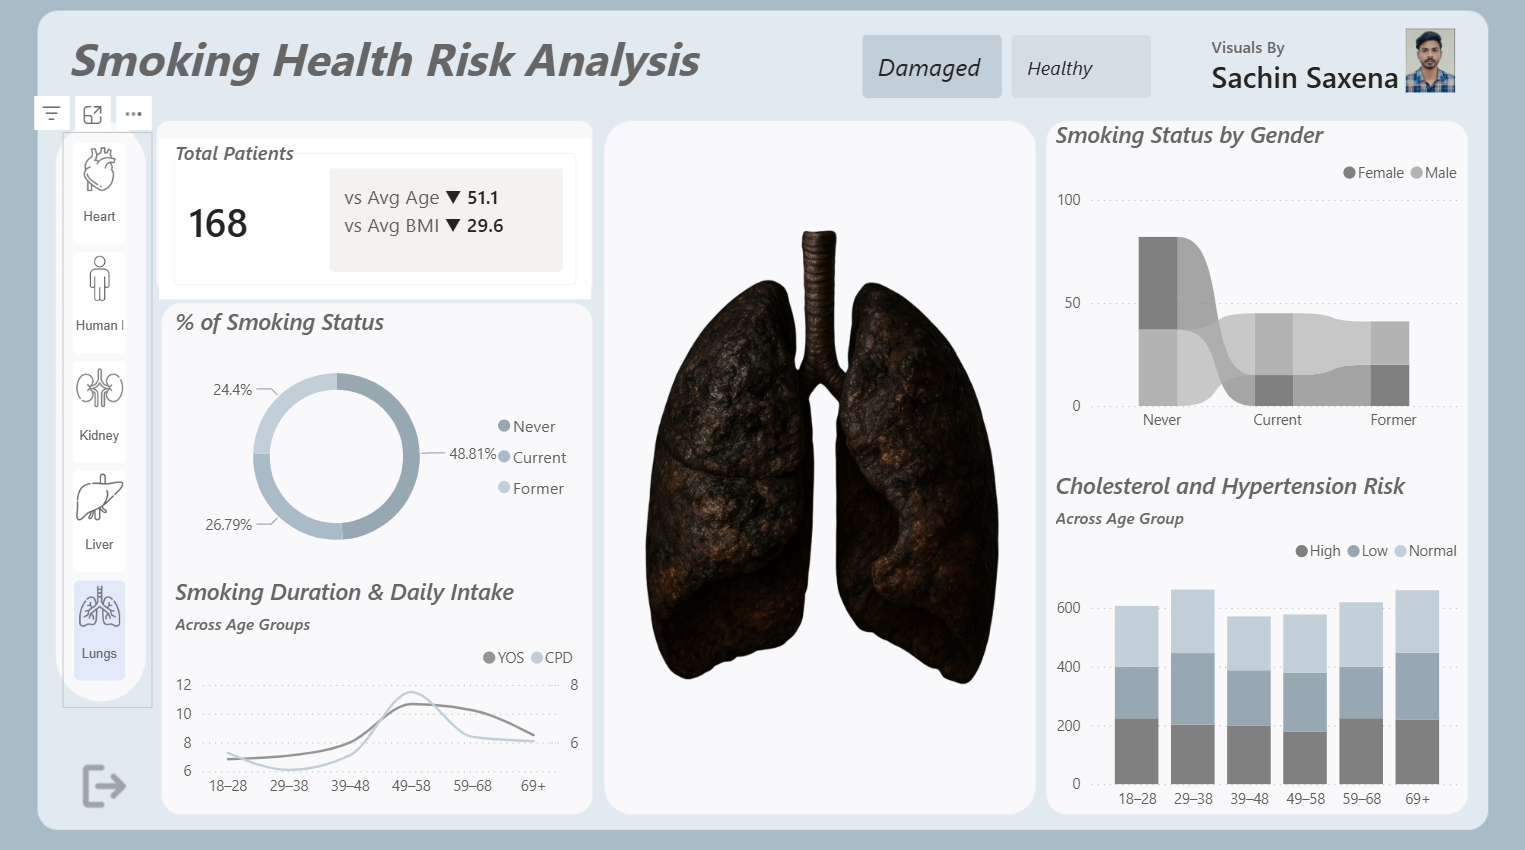

What the dashboard file says about the page in this screenshot:
{"tool":"powerbi","page":{"name":"Page 1","canvas":[1280,720],"ordinal":0},"visuals":[{"type":"cardVisual","fields":{"Data":["CountNonNull(health_dataset.Patient_ID)"]},"box":[134.8,118.1,366.4,143.8],"z":0},{"type":"textbox","box":[148.4,118.1,249.8,57.5],"z":1000},{"type":"advancedSlicerVisual","fields":{"Values":["condition.Organ_Condition"]},"box":[714.7,33.3,249.8,62.1],"z":2000},{"type":"image","box":[513.3,118.1,346.8,557.2],"z":3000},{"type":"ChicletSlicer1448559807354","fields":{"Category":["Organs.Organ"],"Image":["Organs.Icon_URL"]},"box":[60.6,118.1,74.2,475.5],"z":4000},{"type":"donutChart","title":"% of Smoking Status","fields":{"Category":["health_dataset.Smoking_Status"],"Y":["CountNonNull(health_dataset.Smoking_Status)"]},"box":[148.4,262,342.2,222.6],"z":5000},{"type":"lineChart","title":"Smoking Duration & Daily Intake","fields":{"Category":["health_dataset.Age Group"],"Y":["Avg(health_dataset.Years_of_Smoking)"],"Y2":["Avg(health_dataset.Cigarettes_Per_Day)"]},"box":[148.4,484.5,342.2,190.8],"z":6000},{"type":"ribbonChart","title":"Smoking Status by Gender","fields":{"Category":["health_dataset.Smoking_Status"],"Y":["CountNonNull(health_dataset.Patient_ID)"],"Series":["health_dataset.Gender"]},"box":[873.7,107.5,345.2,266.5],"z":7000},{"type":"columnChart","title":"Cholesterol and Hypertension Risk","fields":{"Category":["health_dataset.Age Group"],"Y":["Avg(health_dataset.Cholesterol_Level)"],"Series":["health_dataset.BP_Risk"]},"box":[873.7,396.7,345.2,289.2],"z":8000},{"type":"textbox","box":[60.6,27.3,579.9,80.3],"z":9000},{"type":"textbox","box":[1002.4,33.3,277.1,307.4],"z":10000},{"type":"image","box":[1141.7,33.3,90.9,53],"z":11000}]}

Visuals, with their boxes on the page's 1280x720 design canvas (x1, y1, x2, y2). These are canvas units, not pixel positions in the 1525x850 screenshot, which may show the page scaled, cropped or inside an application window:
cardVisual - CountNonNull(health_dataset.Patient_ID): box(135, 118, 501, 262)
textbox: box(148, 118, 398, 176)
advancedSlicerVisual - condition.Organ_Condition: box(715, 33, 964, 95)
image: box(513, 118, 860, 675)
ChicletSlicer1448559807354 - Organs.Organ x Organs.Icon_URL: box(61, 118, 135, 594)
"% of Smoking Status" donutChart: box(148, 262, 491, 485)
"Smoking Duration & Daily Intake" lineChart: box(148, 484, 491, 675)
"Smoking Status by Gender" ribbonChart: box(874, 108, 1219, 374)
"Cholesterol and Hypertension Risk" columnChart: box(874, 397, 1219, 686)
textbox: box(61, 27, 640, 108)
textbox: box(1002, 33, 1280, 341)
image: box(1142, 33, 1233, 86)
